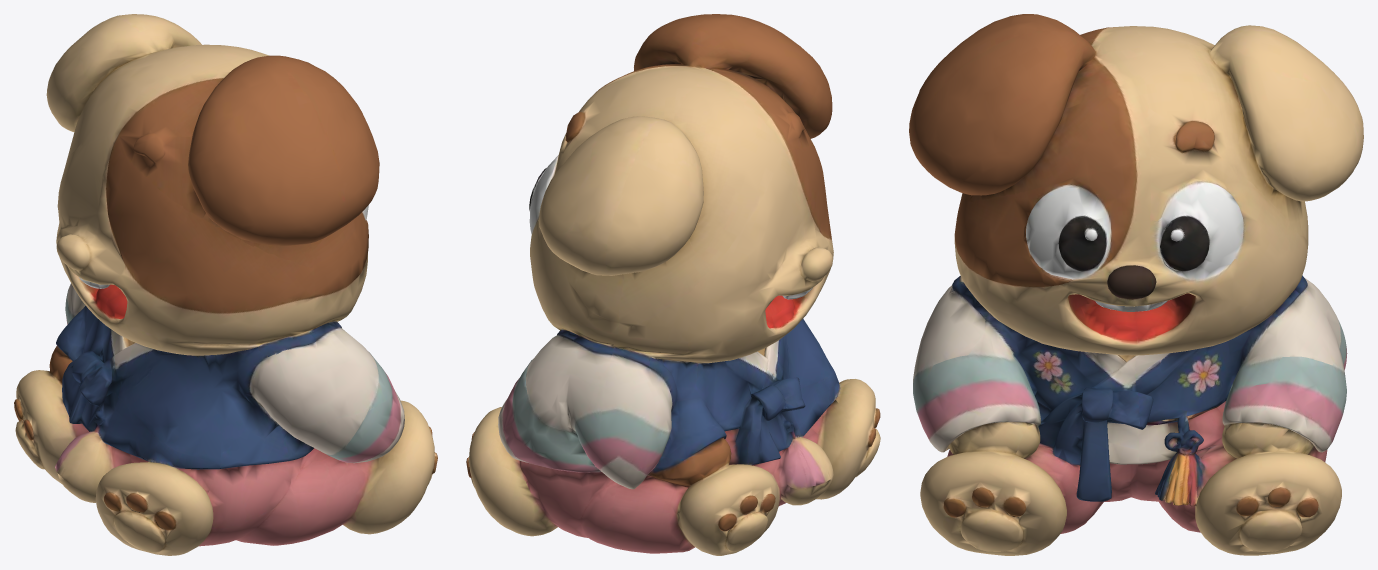
Rendered from hanbokdali-plush.glb.
The picture shows the model from 3 angles, left to right: view 1: azimuth 30°, elevation 25°; view 2: azimuth 150°, elevation 25°; view 3: azimuth 270°, elevation 25°; orthographic projection. The views are drawn at different scales.
Parts seen in each view (by area): view 1: tripo_node_4bb88e29-6463-4d41-bee2-5d8d4b2afea8; view 2: tripo_node_4bb88e29-6463-4d41-bee2-5d8d4b2afea8; view 3: tripo_node_4bb88e29-6463-4d41-bee2-5d8d4b2afea8.
Boxes of the visible parts, x1=… form: tripo_node_4bb88e29-6463-4d41-bee2-5d8d4b2afea8: x1=14, y1=14, x2=437, y2=555; tripo_node_4bb88e29-6463-4d41-bee2-5d8d4b2afea8: x1=466, y1=14, x2=880, y2=555; tripo_node_4bb88e29-6463-4d41-bee2-5d8d4b2afea8: x1=909, y1=14, x2=1363, y2=555.
Size of the model in its own units: 0.6858 by 0.9987 by 0.8487.
1 material, 1 textured.
